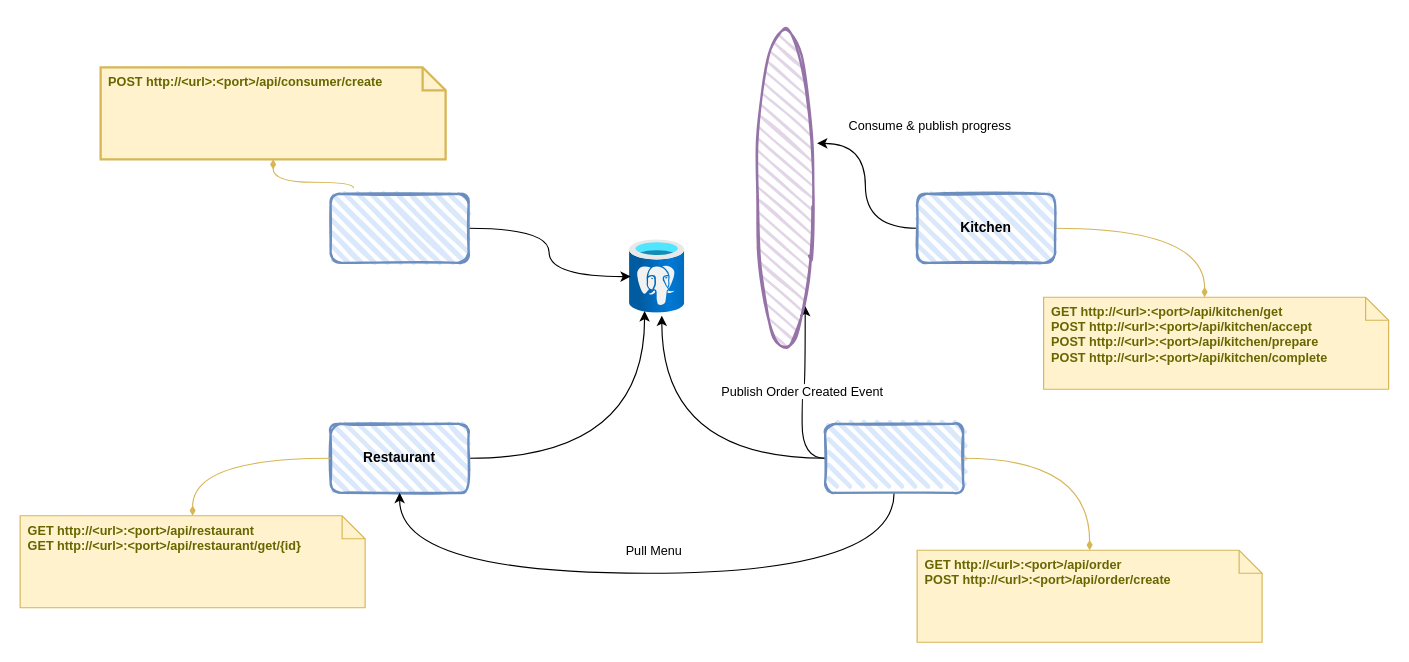
The diagram is 1409 pixels wide and 662 high, and some of its shapes have lost their labels. Each missing label, with the box of its shape:
Consumer: (329, 192, 469, 263)
Kafka: (754, 20, 814, 355)
Order: (823, 422, 964, 493)
